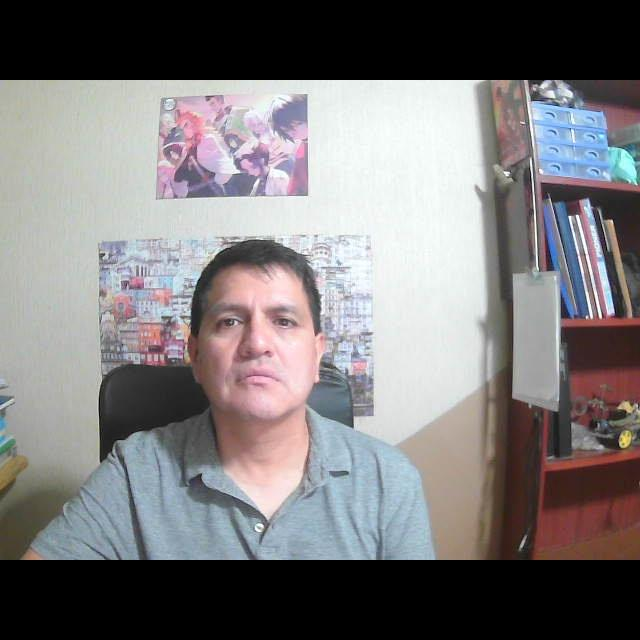cesar: (184, 226, 332, 442)
